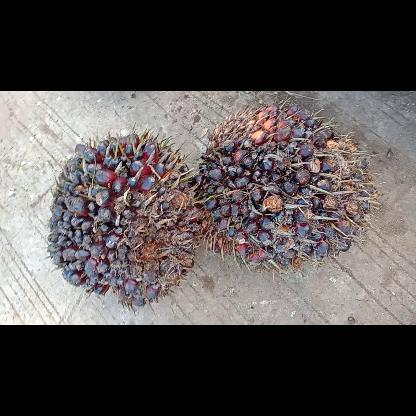TBS mentah: (195, 103, 372, 264), (46, 135, 200, 307)
